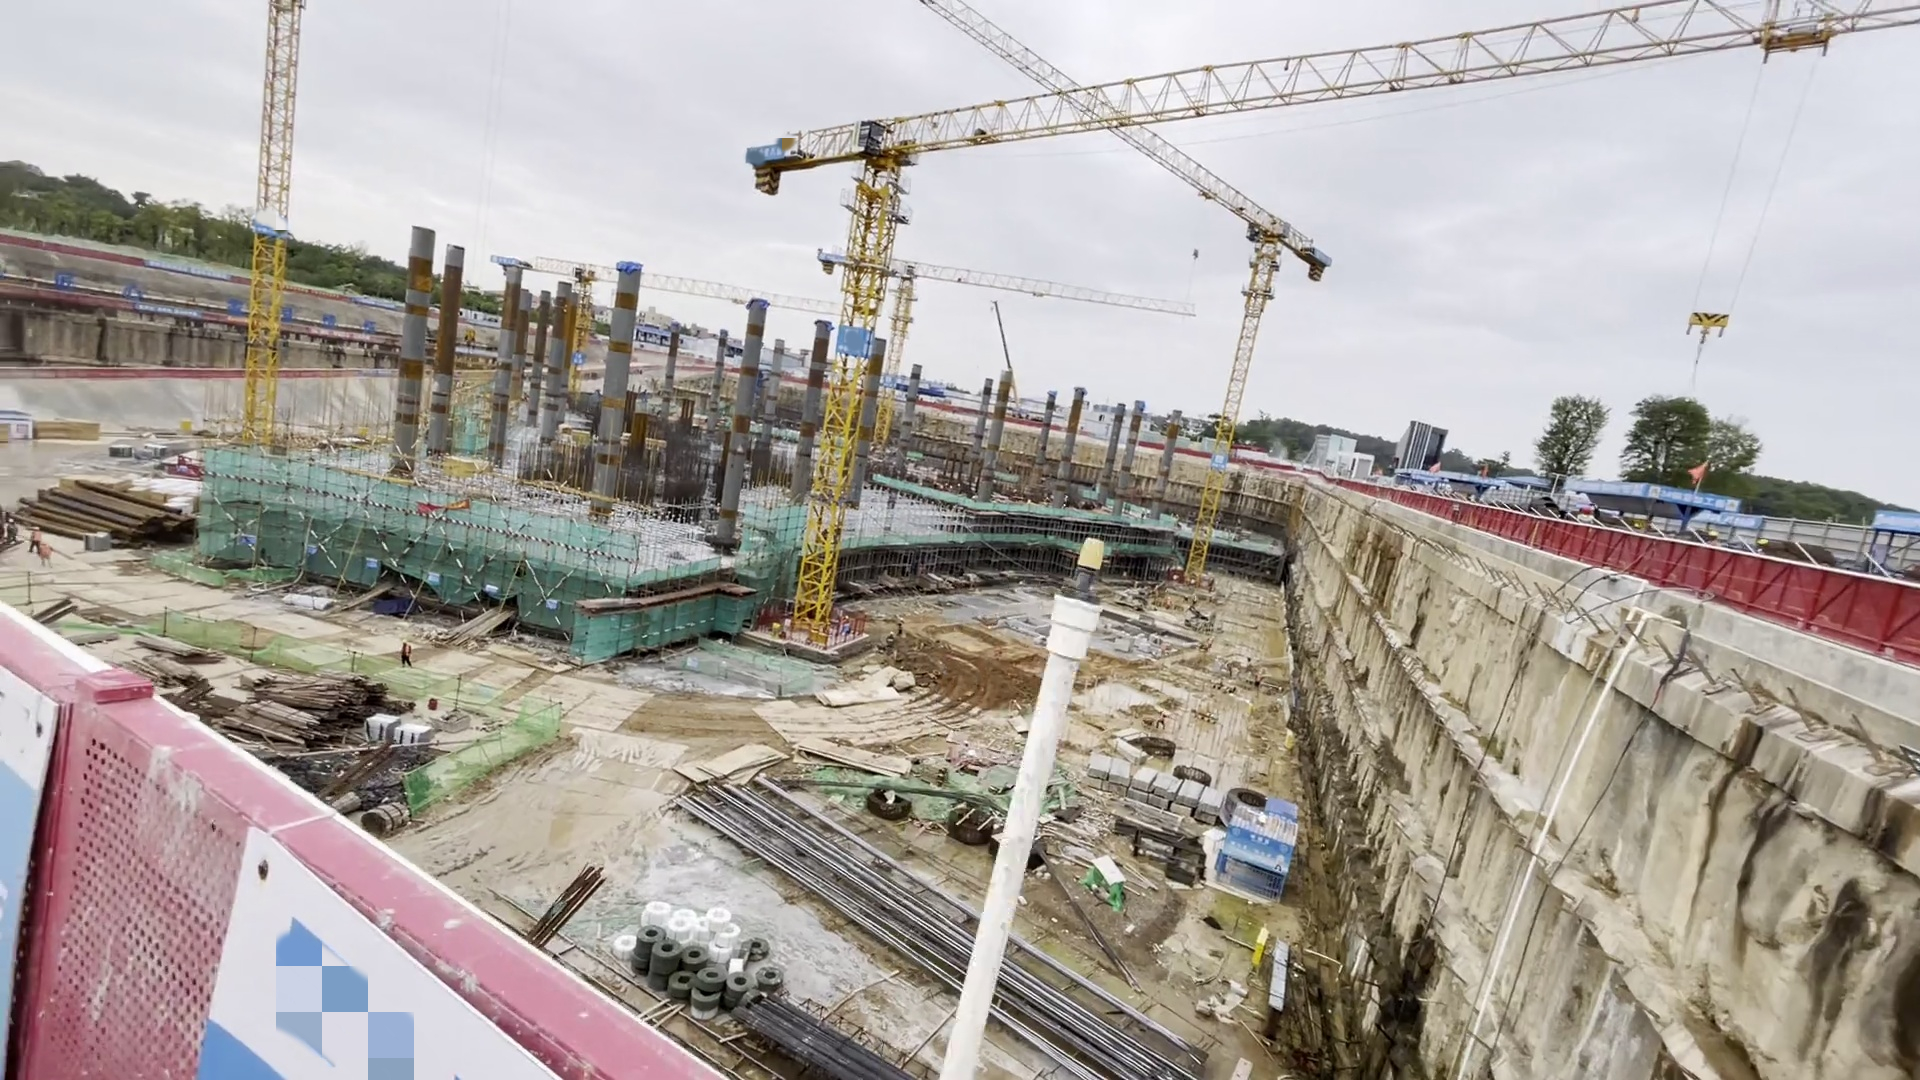brick: (737, 997, 908, 1080), (1089, 756, 1237, 831), (370, 713, 435, 751)
ebox: (802, 629, 826, 646)
fence: (1482, 521, 1920, 665)
helmet: (8, 518, 15, 524), (403, 639, 408, 647)
hook: (1686, 307, 1727, 349)
hopper: (373, 597, 414, 618)
person: (395, 641, 419, 673), (27, 523, 39, 556), (40, 538, 53, 568), (6, 516, 20, 545), (885, 630, 898, 658), (897, 615, 909, 637)
slogan: (227, 301, 377, 331), (51, 265, 142, 305), (148, 261, 231, 280), (140, 305, 200, 317)
vest: (8, 524, 18, 539), (31, 532, 40, 545), (403, 647, 413, 657)
wood: (243, 668, 367, 743)
